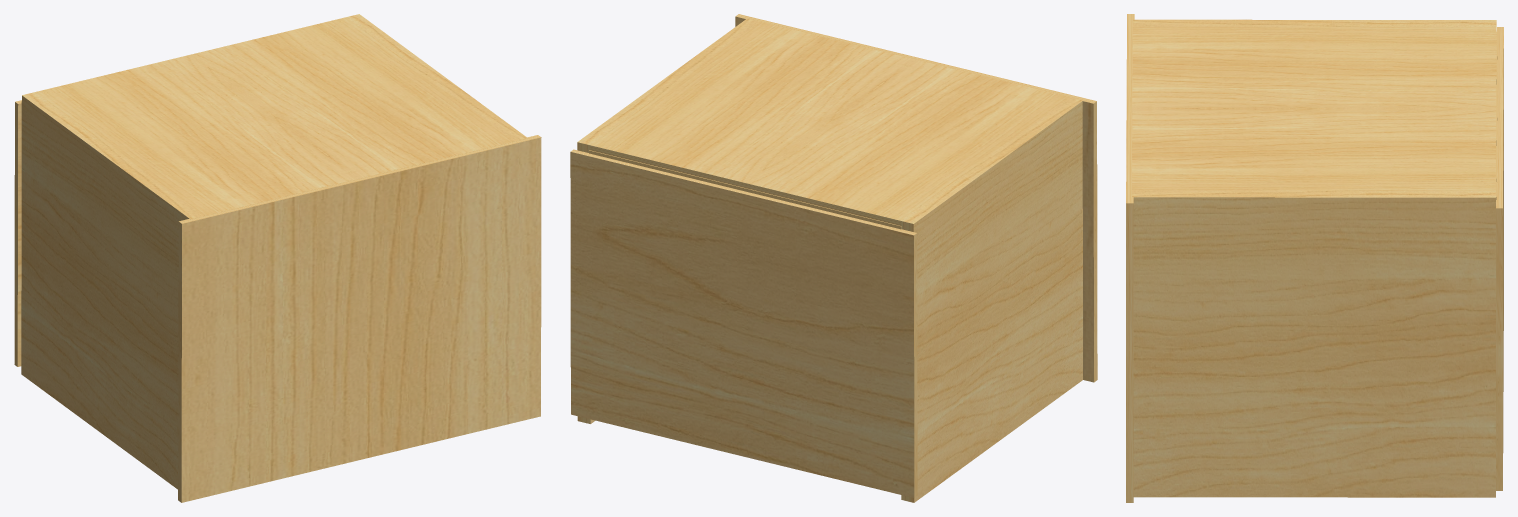
File: wooden_cabinet_base.obj
3 renders of one model, left to right at view 1: azimuth 30°, elevation 25°; view 2: azimuth 150°, elevation 25°; view 3: azimuth 270°, elevation 25°, orthographic. The views are drawn at different scales.
Parts seen in each view (by area): view 1: Cube.024, Cube.017, Cube.025, Cube.026; view 2: Cube.026, Cube.017, Cube.025, Cube.024, Cube.001; view 3: Cube.025, Cube.017, Cube.024, Cube.026.
Part boxes in pixels (left/top/right/bottom): Cube.024: left=178, top=135, right=541, bottom=502; Cube.017: left=35, top=17, right=514, bottom=215; Cube.025: left=21, top=14, right=527, bottom=489; Cube.026: left=14, top=100, right=21, bottom=366; Cube.026: left=570, top=149, right=917, bottom=497; Cube.017: left=590, top=21, right=1069, bottom=225; Cube.025: left=577, top=18, right=1082, bottom=502; Cube.024: left=735, top=14, right=1097, bottom=382; Cube.001: left=589, top=150, right=901, bottom=229; Cube.025: left=1131, top=19, right=1496, bottom=497; Cube.017: left=1132, top=26, right=1496, bottom=190; Cube.024: left=1126, top=14, right=1134, bottom=502; Cube.026: left=1496, top=27, right=1503, bottom=490.
Size of the model in its own units: 5.13 by 3.81 by 4.34.
